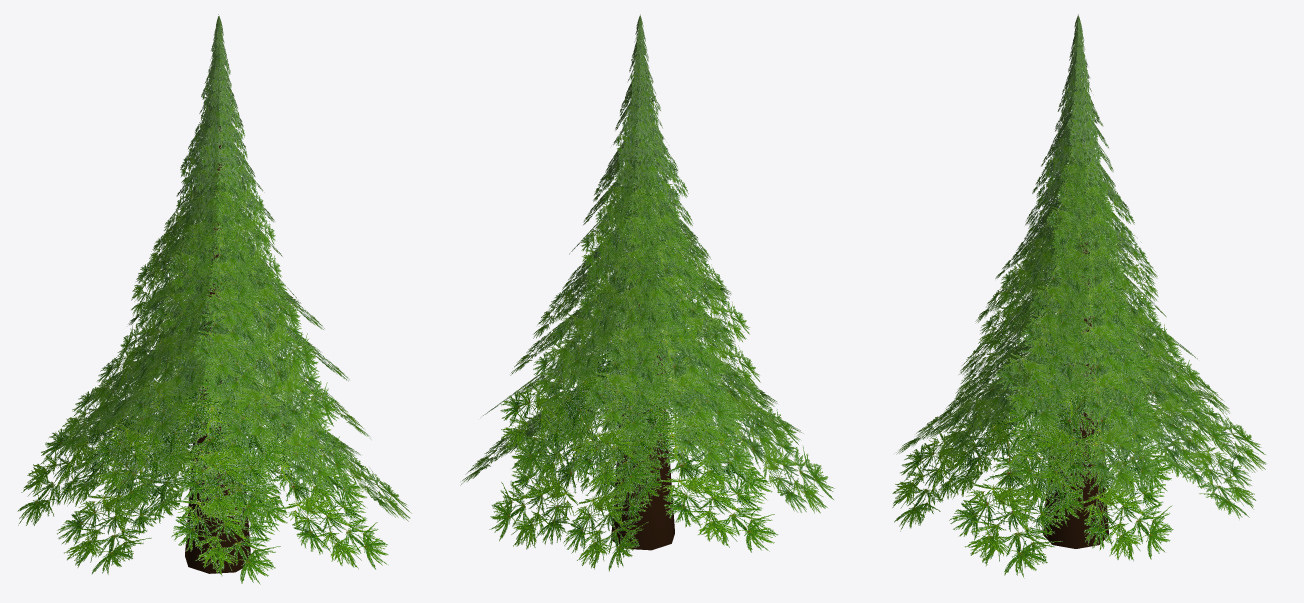
The model's file is pinetree.glb.
3 renders of one model, left to right at view 1: azimuth 30°, elevation 25°; view 2: azimuth 150°, elevation 25°; view 3: azimuth 270°, elevation 25°, orthographic. The views are drawn at different scales.
Visible parts, largest first — view 1: Cone.001; view 2: Cone.001; view 3: Cone.001.
Part boxes in pixels (left/top/right/bottom): Cone.001: left=17, top=14, right=411, bottom=584; Cone.001: left=460, top=14, right=834, bottom=571; Cone.001: left=892, top=14, right=1266, bottom=578.
Bounding box in the file's own units: 6.77 × 9.3 × 6.83.
Materials: 2 (1 with a texture image).
